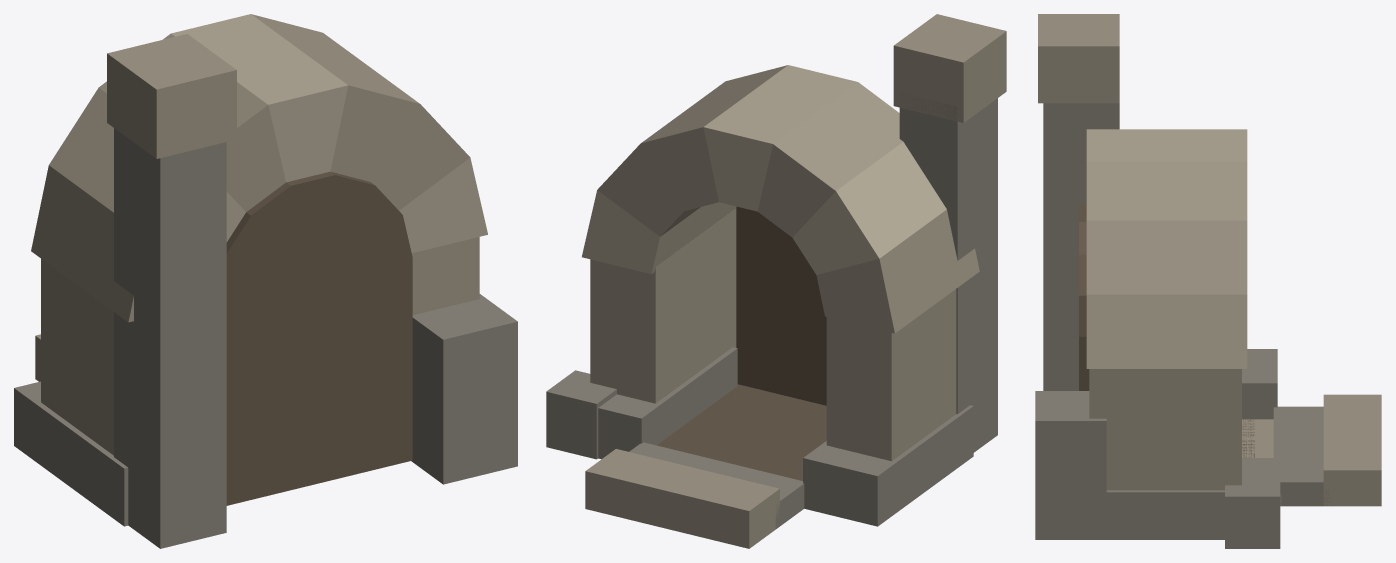
File: Building_DungeonEntrance.fbx
3 renders of one model, left to right at view 1: azimuth 30°, elevation 25°; view 2: azimuth 150°, elevation 25°; view 3: azimuth 270°, elevation 25°, orthographic. The views are drawn at different scales.
Parts seen in each view (by area): view 1: Building_DungeonEntrance; view 2: Building_DungeonEntrance; view 3: Building_DungeonEntrance.
Part boxes in pixels (x1,y1,x2,y2): Building_DungeonEntrance: [14, 14, 517, 548]; Building_DungeonEntrance: [546, 14, 1006, 548]; Building_DungeonEntrance: [1035, 14, 1381, 548].
Size of the model in its own units: 1.38 by 1.6 by 1.31.
